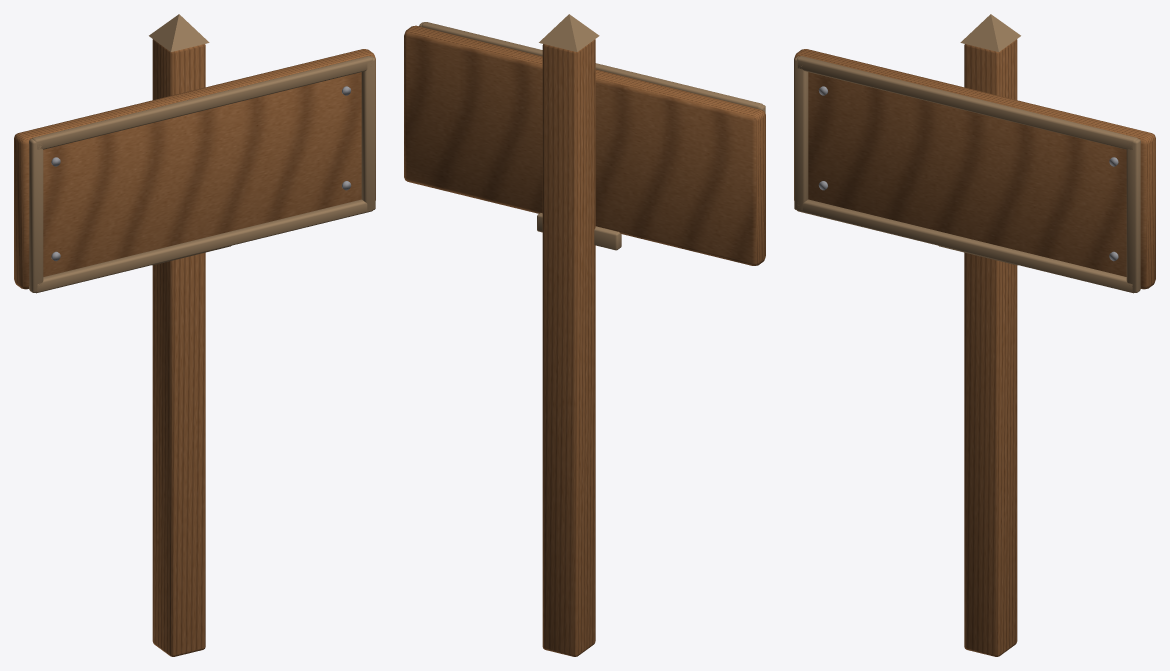
Rendered from WoodSign.glb.
The picture shows the model from 3 angles, left to right: view 1: azimuth 30°, elevation 25°; view 2: azimuth 150°, elevation 25°; view 3: azimuth 330°, elevation 25°; orthographic projection.
Visible parts, largest first — view 1: WoodSign; view 2: WoodSign; view 3: WoodSign.
Boxes of the visible parts, x1=… form: WoodSign: x1=14, y1=14, x2=375, y2=656; WoodSign: x1=404, y1=14, x2=765, y2=656; WoodSign: x1=794, y1=14, x2=1155, y2=656.
Size of the model in its own units: 2.2 by 3.75 by 0.3952.
3 materials, 1 textured.
